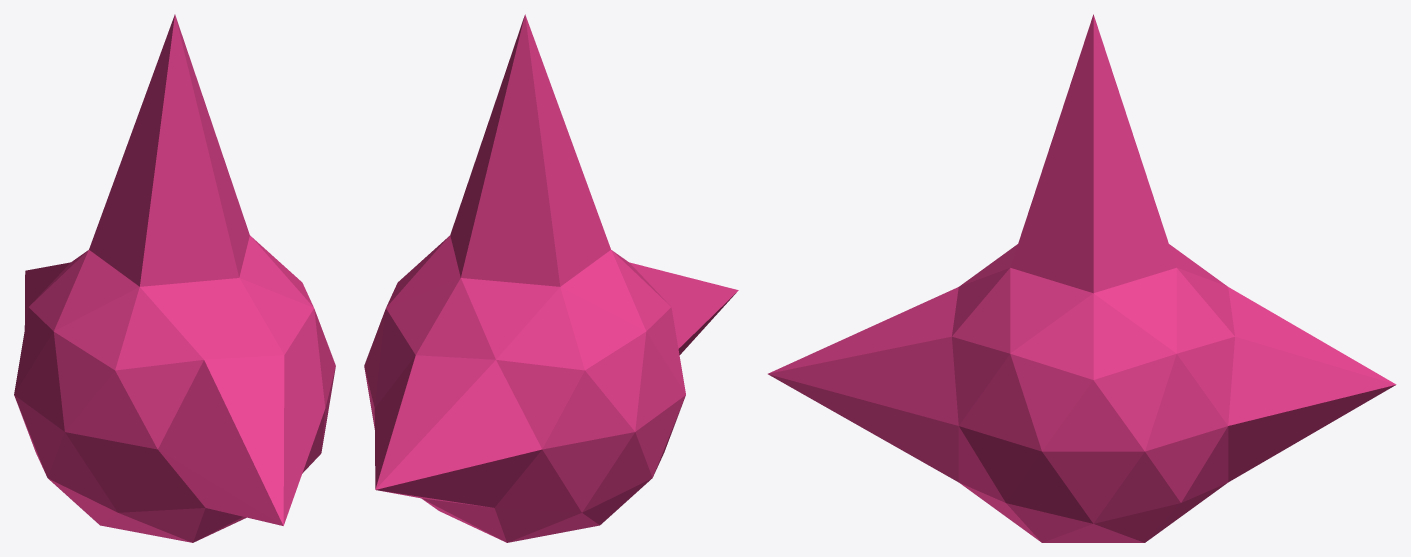
File: esfera3.glb
3 renders of one model, left to right at view 1: azimuth 30°, elevation 25°; view 2: azimuth 150°, elevation 25°; view 3: azimuth 270°, elevation 25°, orthographic.
Parts seen in each view (by area): view 1: Icosphere; view 2: Icosphere; view 3: Icosphere.
Part boxes in pixels (x1=…): Icosphere: x1=14, y1=14, x2=335, y2=542; Icosphere: x1=364, y1=14, x2=738, y2=542; Icosphere: x1=768, y1=14, x2=1396, y2=542.
Bounding box in the file's own units: 1.9 × 3.46 × 3.78.
